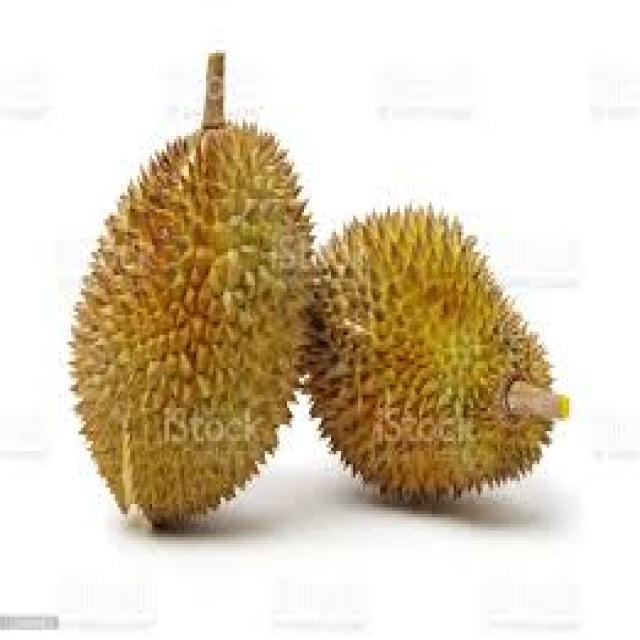mature: (72, 125, 312, 528), (305, 208, 556, 503)
